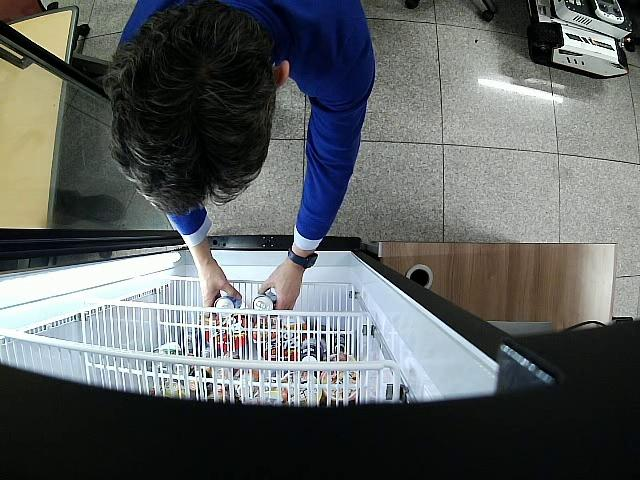00_hand: (191, 248, 242, 318), (256, 268, 305, 311)
15_letsbe: (252, 293, 277, 310)
